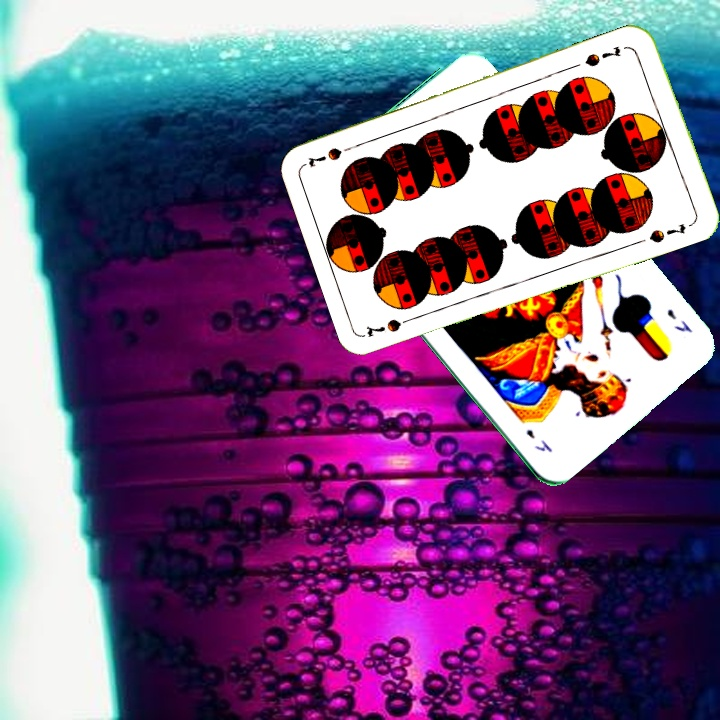EK: (663, 304, 695, 336)
S7: (362, 311, 420, 340), (581, 41, 624, 70)
